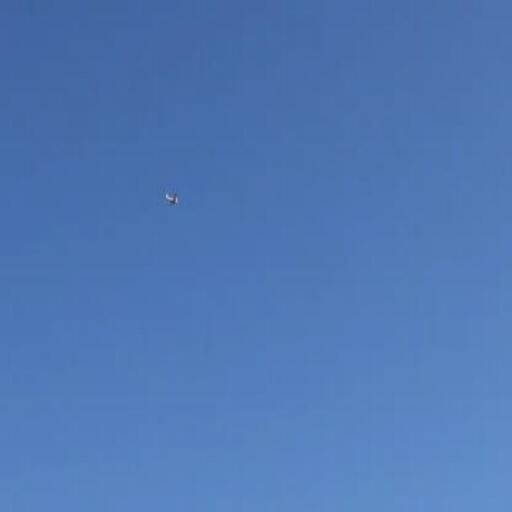aircraft: (165, 191, 177, 207)
